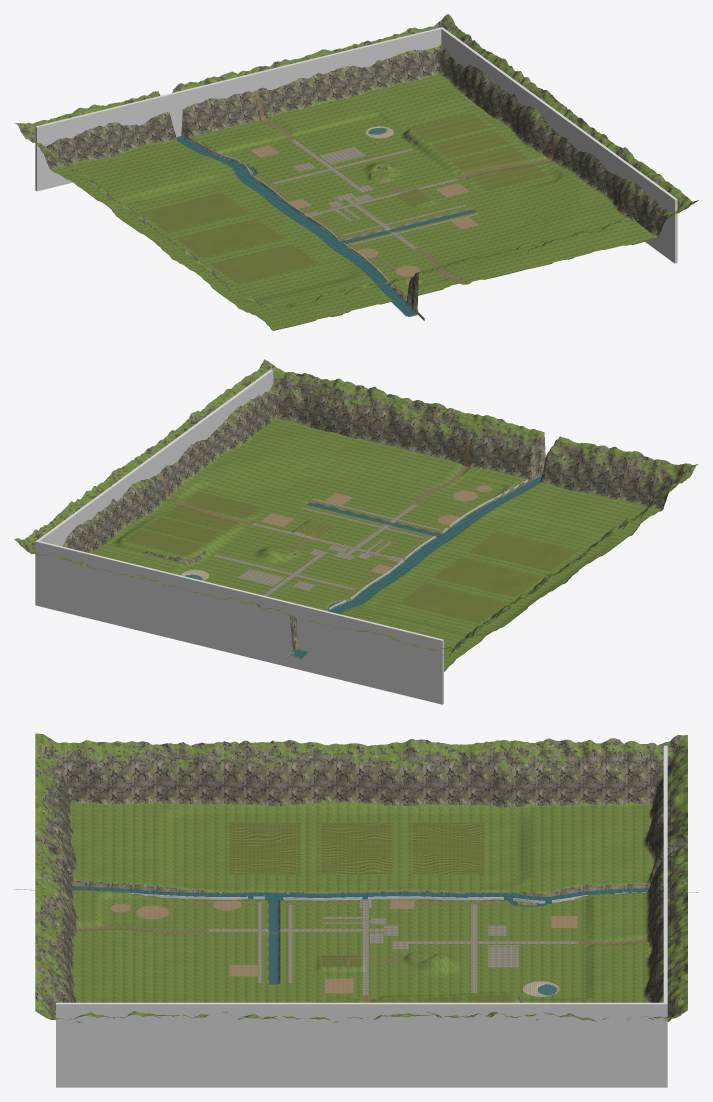
Rendered from town_terrain.glb.
3 renders of one model, top to bottom at view 1: azimuth 30°, elevation 25°; view 2: azimuth 150°, elevation 25°; view 3: azimuth 270°, elevation 25°, orthographic. The views are drawn at different scales.
Visible parts, largest first — view 1: BoundZ-colonly.001, BoundX-colonly.001, TownGround_3_0-col, TownGround_4_0-col, TownGround_5_0-col, TownGround_1_0-col, TownGround_2_0-col, TownGround_5_2-col, TownGround_0_0-col, TownGround_1_1-col, TownGround_5_5-col, TownGround_5_3-col (+34 smaller); view 2: BoundZ-colonly.001, BoundX-colonly.001, TownGround_4_6-col, TownGround_5_6-col, TownGround_3_6-col, TownGround_1_6-col, TownGround_2_6-col, TownGround_5_4-col, TownGround_3_5-col, TownGround_1_5-col, TownGround_0_6-col, TownGround_4_5-col (+34 smaller); view 3: BoundX-colonly.001, TownGround_0_4-col, TownGround_0_2-col, TownGround_0_3-col, TownGround_0_1-col, TownGround_0_5-col, TownGround_0_0-col, TownGround_1_0-col, TownGround_1_4-col, TownGround_1_3-col, TownGround_1_5-col, TownGround_1_2-col (+29 smaller).
Part boxes in pixels (x1,y1,x2,y2): BoundZ-colonly.001: (35,27,442,191); BoundX-colonly.001: (440,27,677,263); TownGround_3_0-col: (217,59,324,145); TownGround_4_0-col: (285,44,391,128); TownGround_5_0-col: (353,27,459,109); TownGround_1_0-col: (82,94,188,175); TownGround_2_0-col: (149,76,256,158); TownGround_5_2-col: (432,122,538,167); TownGround_0_0-col: (15,107,120,186); TownGround_1_1-col: (121,159,227,207); TownGround_5_5-col: (549,201,655,253); TownGround_5_3-col: (471,147,577,198); BoundZ-colonly.001: (35,540,443,704); BoundX-colonly.001: (35,369,273,605); TownGround_4_6-col: (344,385,427,451); TownGround_5_6-col: (276,372,359,435); TownGround_3_6-col: (412,403,494,466); TownGround_1_6-col: (548,437,630,500); TownGround_2_6-col: (479,418,562,485); TownGround_5_4-col: (198,443,304,494); TownGround_3_5-col: (373,452,479,499); TownGround_1_5-col: (508,484,614,532); TownGround_0_6-col: (616,451,697,511); TownGround_4_5-col: (305,435,411,482); BoundX-colonly.001: (56,1002,667,1087); TownGround_0_4-col: (178,740,280,835); TownGround_0_2-col: (382,739,483,835); TownGround_0_3-col: (280,740,382,835); TownGround_0_1-col: (484,738,585,835); TownGround_0_5-col: (76,740,178,835); TownGround_0_0-col: (586,735,687,833); TownGround_1_0-col: (586,781,687,876); TownGround_1_4-col: (178,835,280,878); TownGround_1_3-col: (280,835,382,878); TownGround_1_5-col: (76,831,178,878); TownGround_1_2-col: (382,835,483,879).
Size of what is drawn, in the model's own units: 640 by 95.8 by 672.
Materials: 12 (12 with a texture image).
